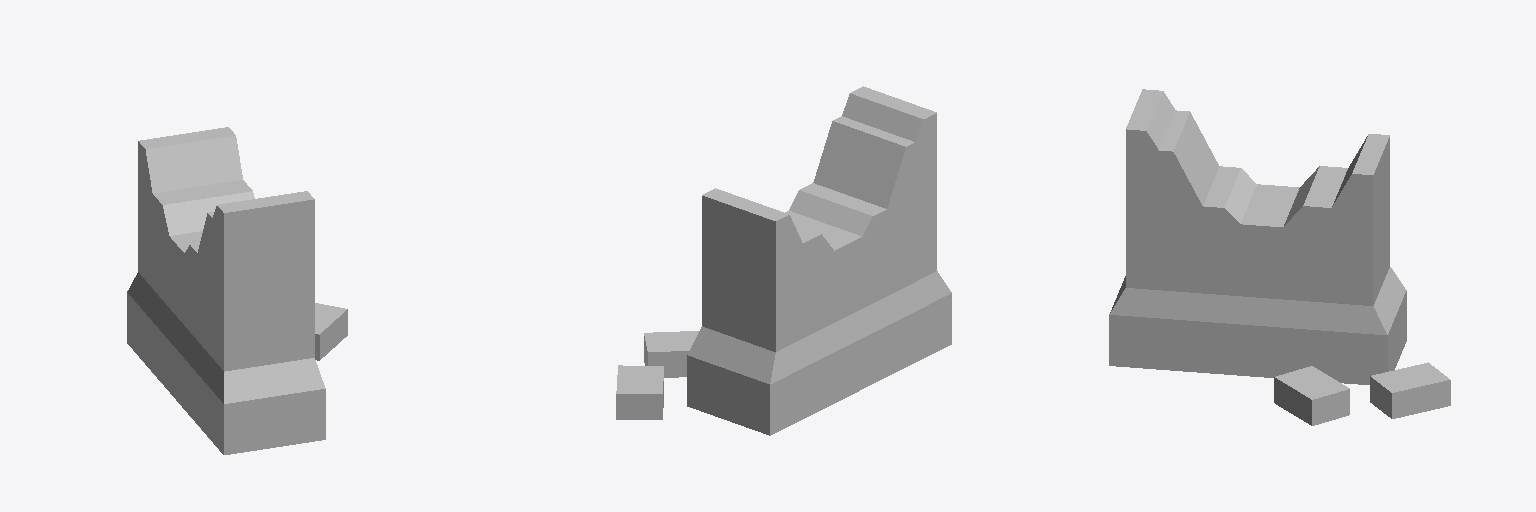
Rendered from Gravestone_Broken_3 2.obj.
The picture shows the model from 3 angles: view 1: azimuth 30°, elevation 25°; view 2: azimuth 150°, elevation 25°; view 3: azimuth 270°, elevation 25°; orthographic projection.
Visible parts, largest first — view 1: Gravestone_Broken_3; view 2: Gravestone_Broken_3; view 3: Gravestone_Broken_3.
Boxes of the visible parts, x1,y1,x2,y2 form: Gravestone_Broken_3: [127, 127, 347, 454]; Gravestone_Broken_3: [616, 86, 951, 435]; Gravestone_Broken_3: [1109, 89, 1450, 425].
Bounding box in the file's own units: 0.3443 × 0.3581 × 0.4709.